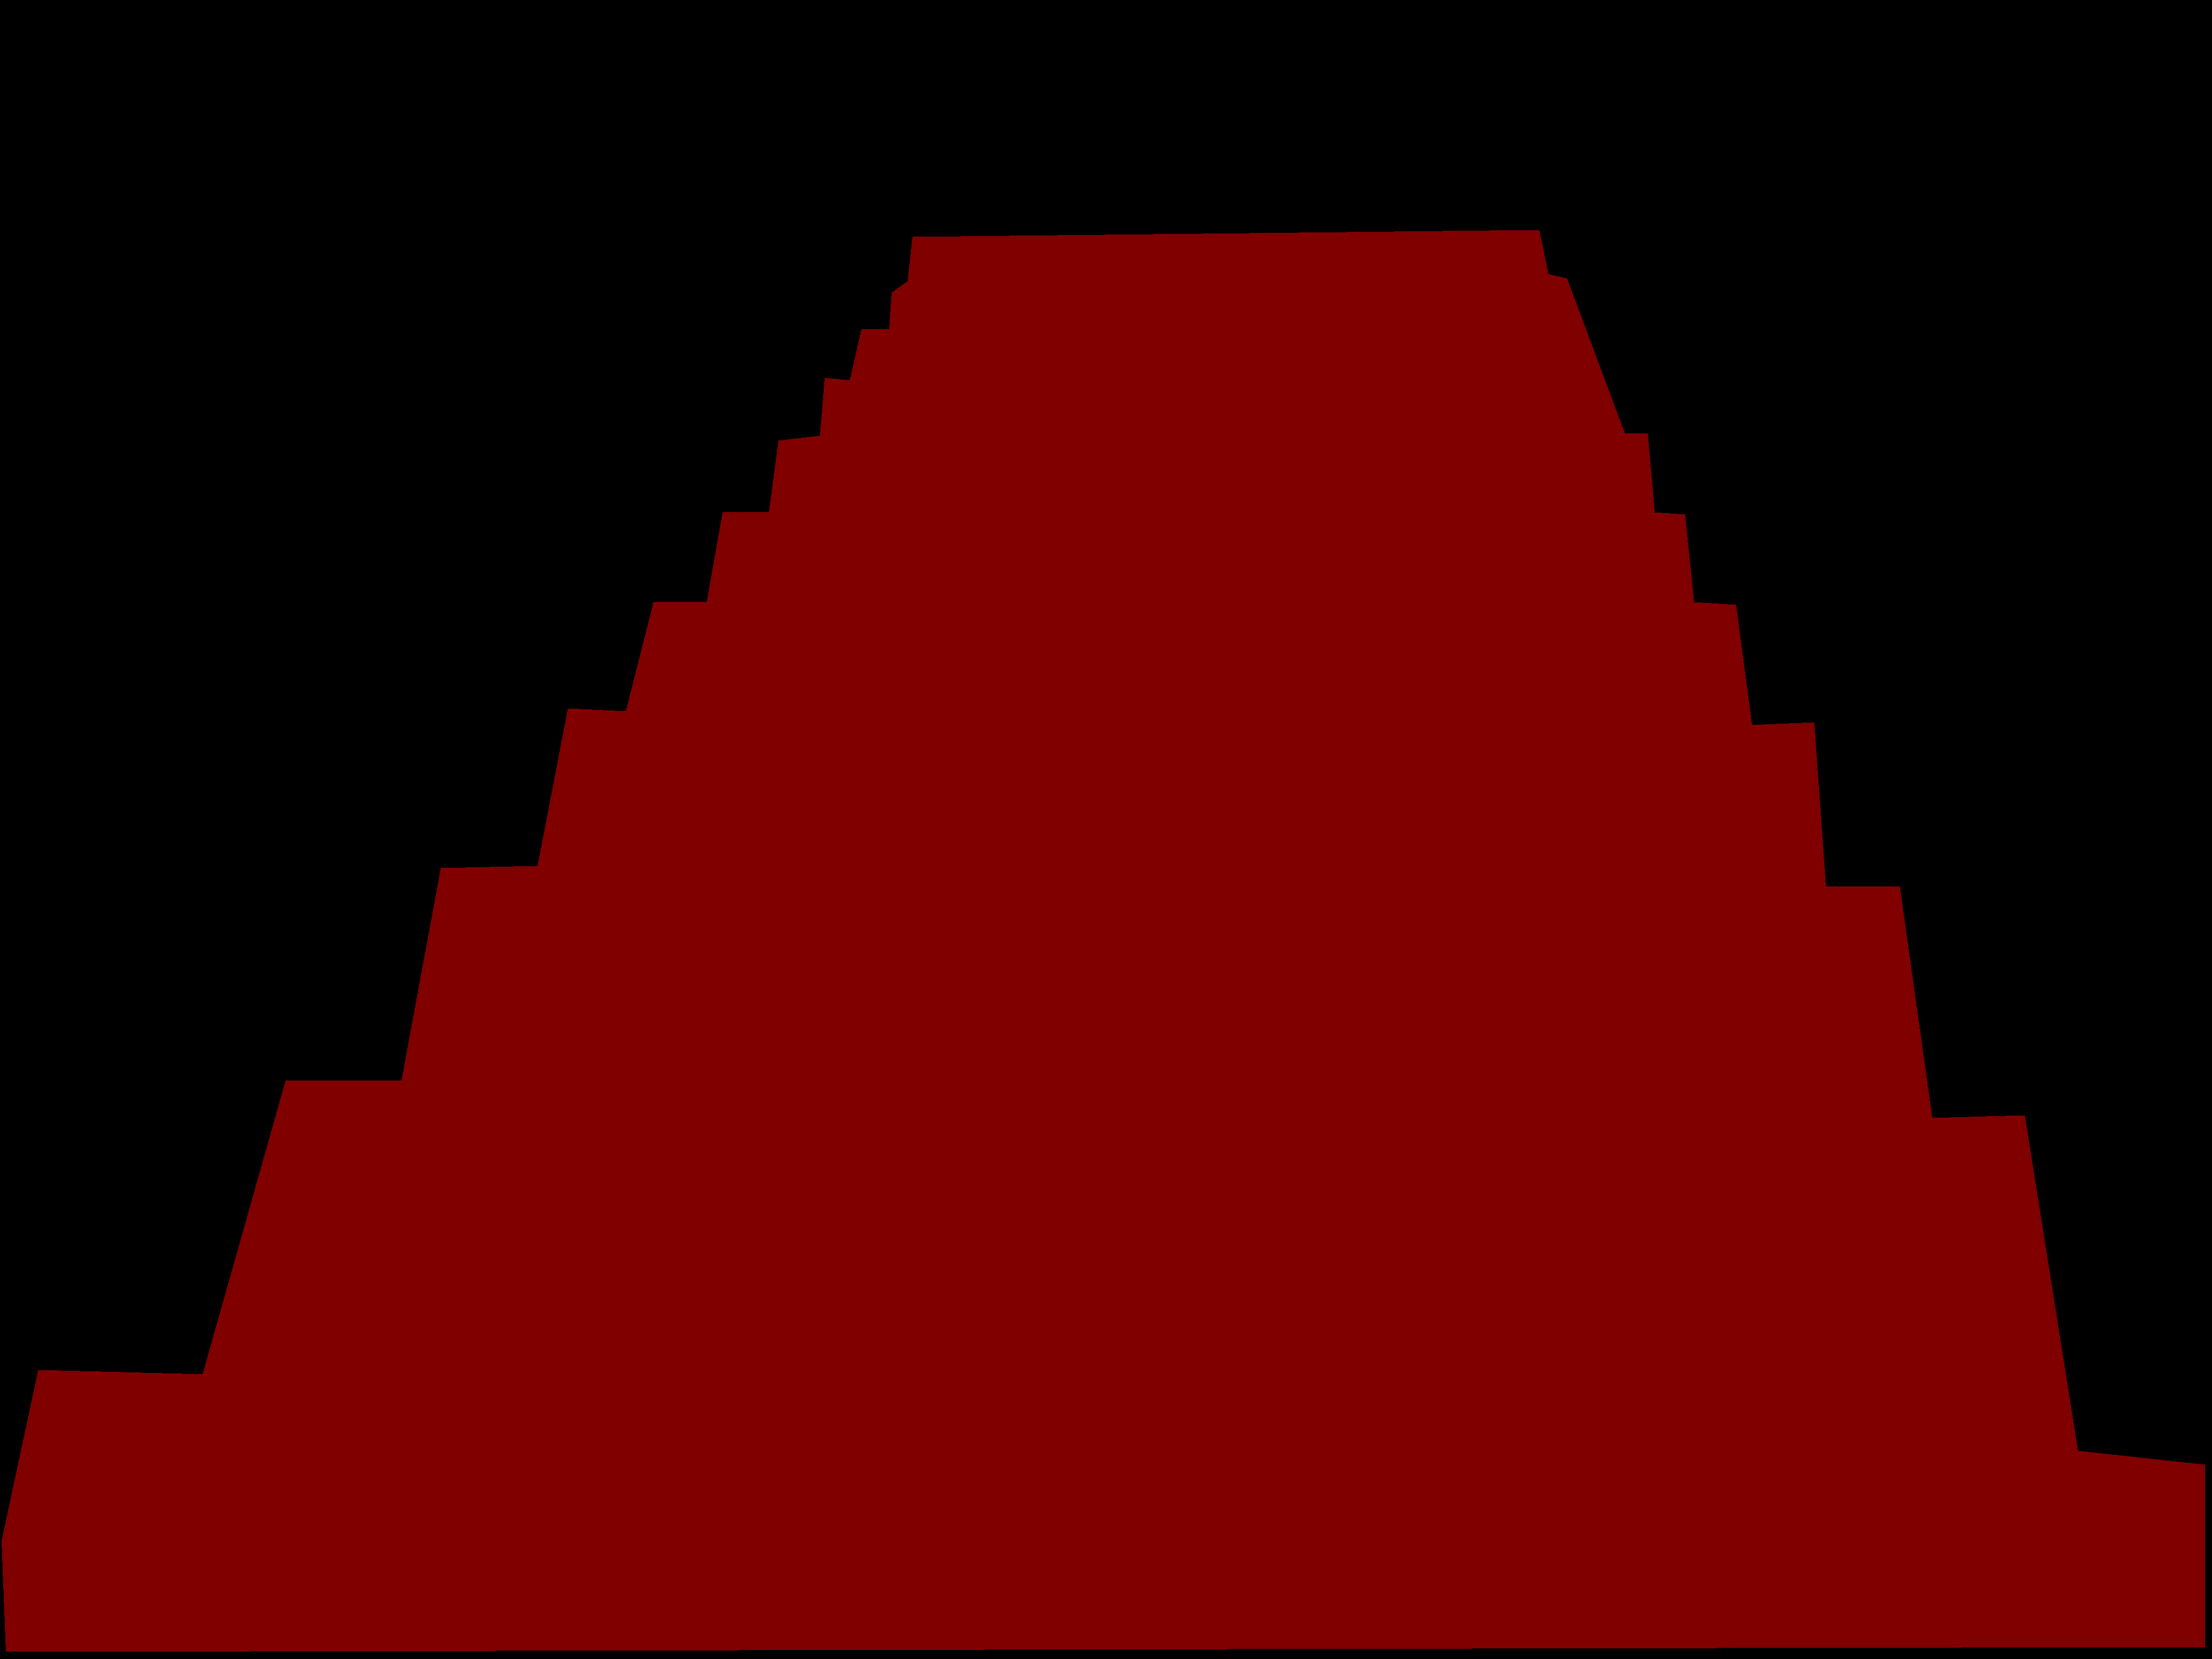stair: (2, 230, 2205, 1652)
